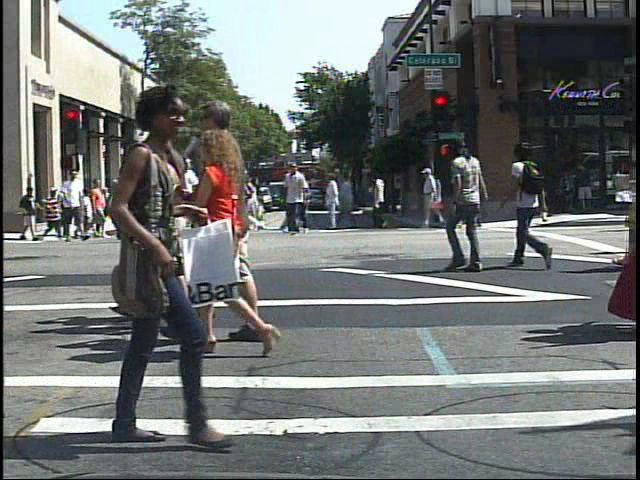person: (84, 78, 245, 453), (193, 120, 282, 355), (175, 94, 256, 347), (506, 138, 559, 273), (442, 136, 493, 276), (166, 155, 203, 248), (123, 161, 152, 242), (60, 165, 89, 245), (110, 162, 138, 243), (419, 162, 446, 230), (41, 184, 65, 243), (87, 181, 107, 223)
